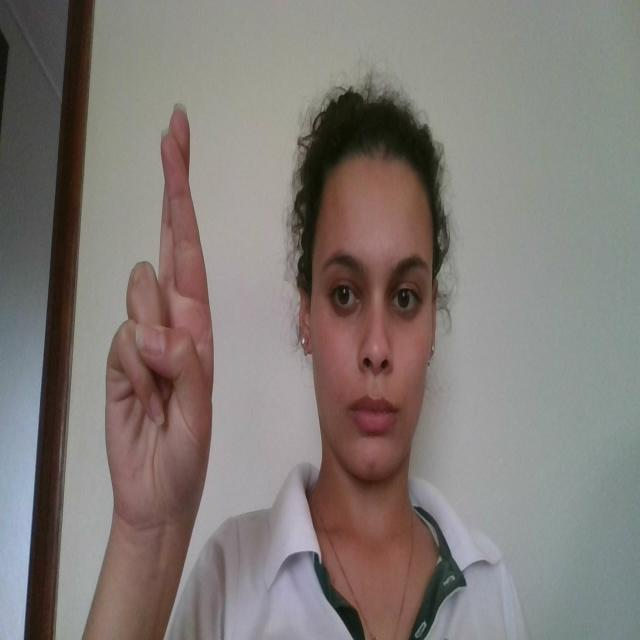R: (102, 102, 218, 510)
